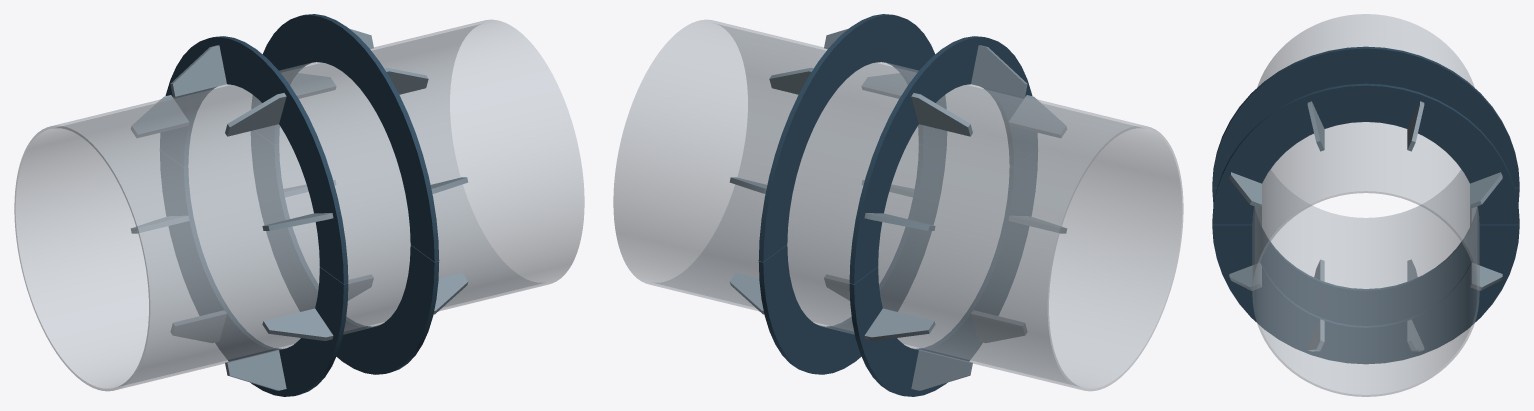
Rendered from TS-666.00.00-15-opora-dn820-D1110.glb.
3 views of the same model, side by side, from view 1: azimuth 30°, elevation 25°; view 2: azimuth 150°, elevation 25°; view 3: azimuth 270°, elevation 25° (orthographic). The views are drawn at different scales.
Visible parts, largest first — view 1: truba, polukoltso_1, polukoltso_11, polukoltso_6, polukoltso_16, rebro_8, rebro_18, rebro_17, rebro_7, rebro_9, rebro_19, rebro_2 (+3 smaller); view 2: truba, polukoltso_1, polukoltso_11, polukoltso_6, polukoltso_16, rebro_9, rebro_19, rebro_20, rebro_10, rebro_8, rebro_18, rebro_5 (+3 smaller); view 3: truba, polukoltso_1, polukoltso_11, polukoltso_6, polukoltso_16, rebro_2, rebro_5, rebro_12, rebro_15, rebro_3, rebro_4, rebro_13 (+1 smaller).
Boxes of the visible parts, bbox=[...] form: truba: bbox=[14, 19, 584, 391]; polukoltso_1: bbox=[251, 14, 439, 261]; polukoltso_11: bbox=[251, 130, 439, 374]; polukoltso_6: bbox=[160, 36, 348, 283]; polukoltso_16: bbox=[160, 150, 348, 396]; rebro_8: bbox=[170, 45, 226, 96]; rebro_18: bbox=[225, 350, 286, 390]; rebro_17: bbox=[262, 308, 333, 340]; rebro_7: bbox=[131, 95, 188, 137]; rebro_9: bbox=[225, 93, 286, 136]; rebro_19: bbox=[171, 310, 226, 342]; rebro_2: bbox=[290, 73, 335, 98]; truba: bbox=[613, 19, 1183, 391]; polukoltso_1: bbox=[758, 14, 946, 261]; polukoltso_11: bbox=[758, 130, 946, 374]; polukoltso_6: bbox=[849, 36, 1037, 283]; polukoltso_16: bbox=[849, 150, 1037, 396]; rebro_9: bbox=[971, 45, 1027, 96]; rebro_19: bbox=[911, 350, 972, 390]; rebro_20: bbox=[864, 308, 935, 340]; rebro_10: bbox=[1009, 95, 1066, 137]; rebro_8: bbox=[911, 93, 972, 136]; rebro_18: bbox=[971, 310, 1026, 342]; rebro_5: bbox=[862, 73, 907, 98]; truba: bbox=[1252, 14, 1479, 396]; polukoltso_1: bbox=[1212, 83, 1519, 224]; polukoltso_11: bbox=[1212, 224, 1519, 364]; polukoltso_6: bbox=[1212, 46, 1519, 187]; polukoltso_16: bbox=[1212, 187, 1519, 325]; rebro_2: bbox=[1470, 172, 1502, 208]; rebro_5: bbox=[1229, 172, 1261, 208]; rebro_12: bbox=[1229, 263, 1261, 290]; rebro_15: bbox=[1470, 263, 1502, 290]; rebro_3: bbox=[1407, 101, 1424, 151]; rebro_4: bbox=[1307, 101, 1324, 151]; rebro_13: bbox=[1307, 319, 1324, 351].
Size of the model in its own units: 1512 by 1110 by 1110.
